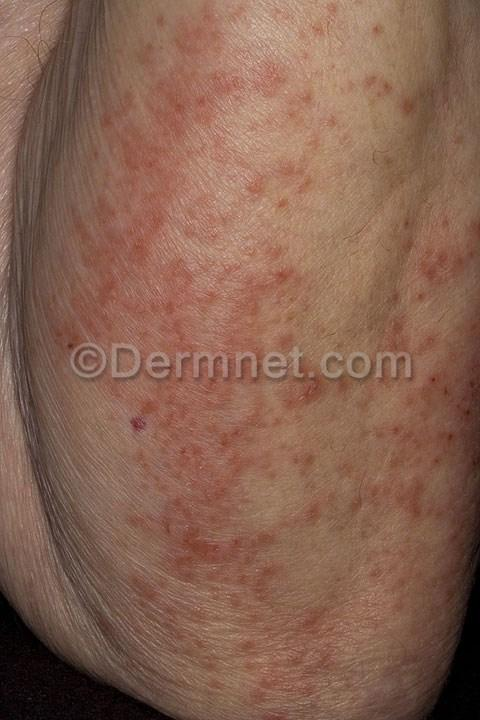Eczema: (112, 37, 325, 213), (43, 220, 331, 341), (103, 385, 330, 502), (122, 512, 304, 614), (382, 383, 480, 525), (386, 206, 480, 341), (241, 625, 353, 710)
